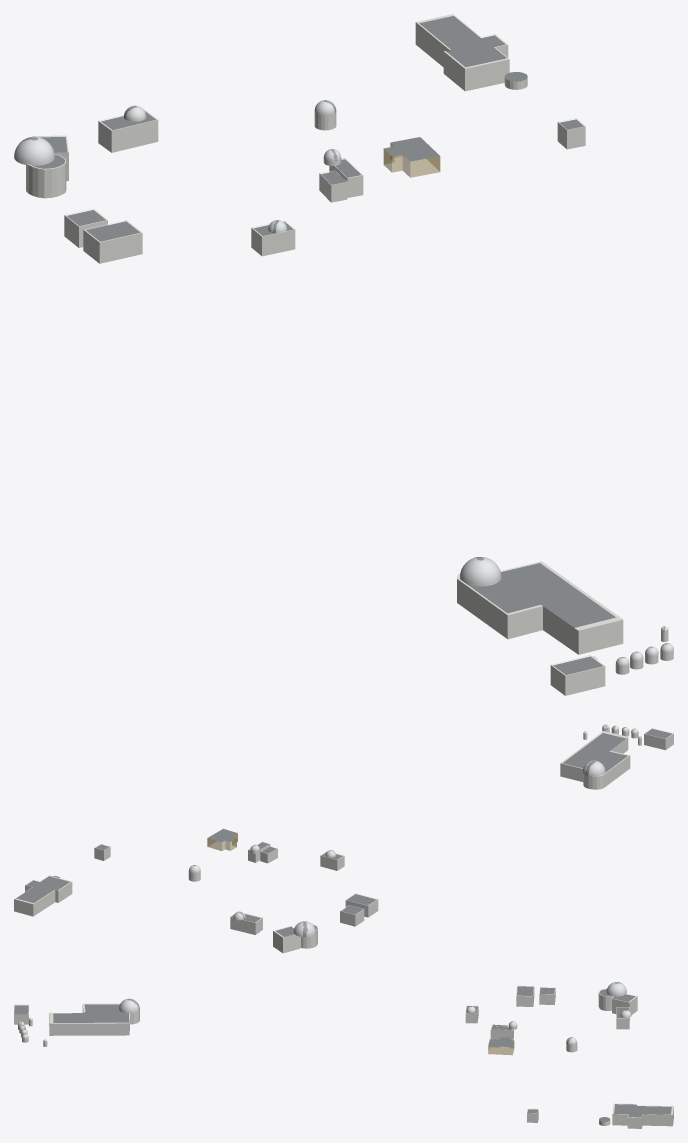
Rendered from tekapo-observatory.glb.
3 renders of one model, top to bottom at view 1: azimuth 30°, elevation 25°; view 2: azimuth 150°, elevation 25°; view 3: azimuth 270°, elevation 25°, orthographic. The views are drawn at different scales.
Visible parts, largest first — view 1: Mt_John_Observatory; view 2: Mt_John_Observatory; view 3: Mt_John_Observatory.
Boxes of the visible parts, left/top/right/bottom form: Mt_John_Observatory: left=14, top=14, right=673, bottom=695; Mt_John_Observatory: left=14, top=724, right=673, bottom=953; Mt_John_Observatory: left=14, top=982, right=673, bottom=1128.
Size of the model in its own units: 148 by 29.4 by 303.
